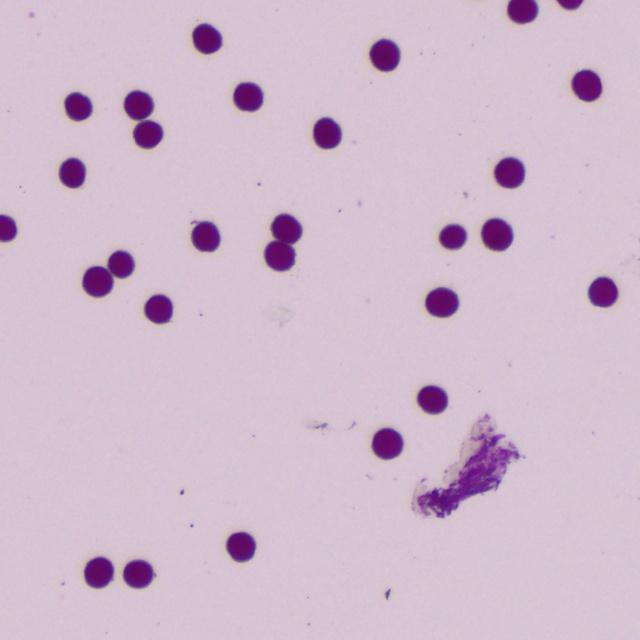viable: (481, 218, 513, 250), (372, 427, 403, 459), (572, 69, 602, 101), (425, 288, 458, 317), (271, 213, 302, 243), (494, 157, 524, 188), (370, 39, 399, 71), (265, 241, 295, 271), (226, 531, 255, 561), (84, 557, 113, 587), (83, 266, 112, 296), (417, 385, 447, 414), (313, 117, 341, 148), (193, 23, 221, 54), (233, 82, 262, 111), (124, 90, 153, 119), (588, 277, 617, 306), (133, 120, 163, 148), (192, 222, 220, 251), (144, 294, 172, 323), (123, 560, 153, 587), (65, 92, 92, 120), (59, 158, 85, 187), (108, 250, 134, 277), (507, 0, 537, 23), (439, 224, 466, 249), (0, 214, 16, 241), (557, 0, 582, 9)
